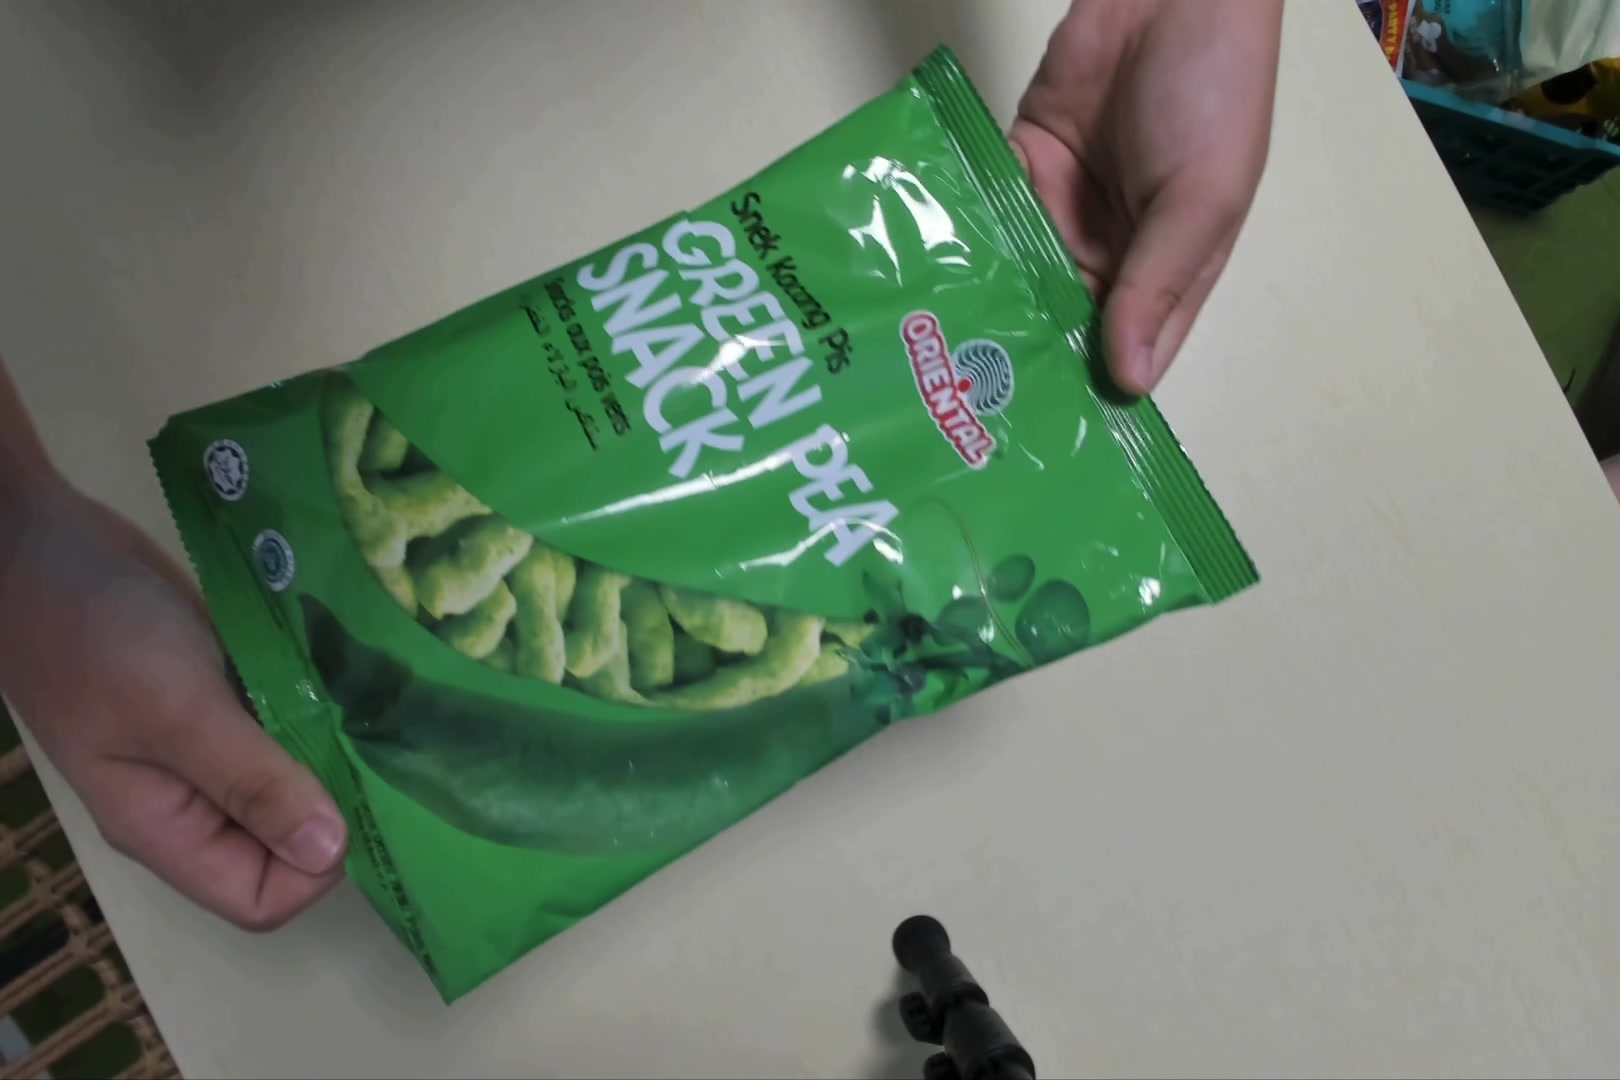Nuts_100-199g_Halal_NonHealthy: (149, 61, 1269, 1009)
